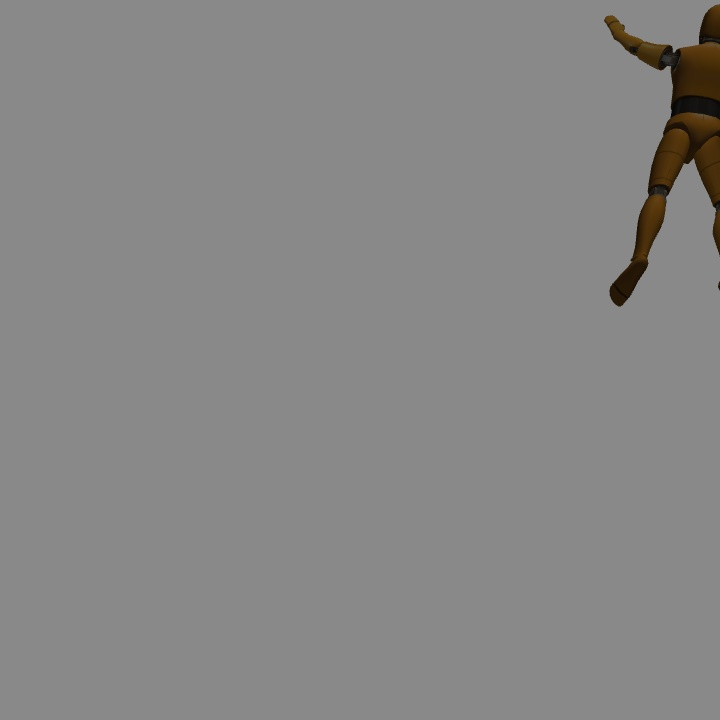victim: (606, 4, 720, 296)
